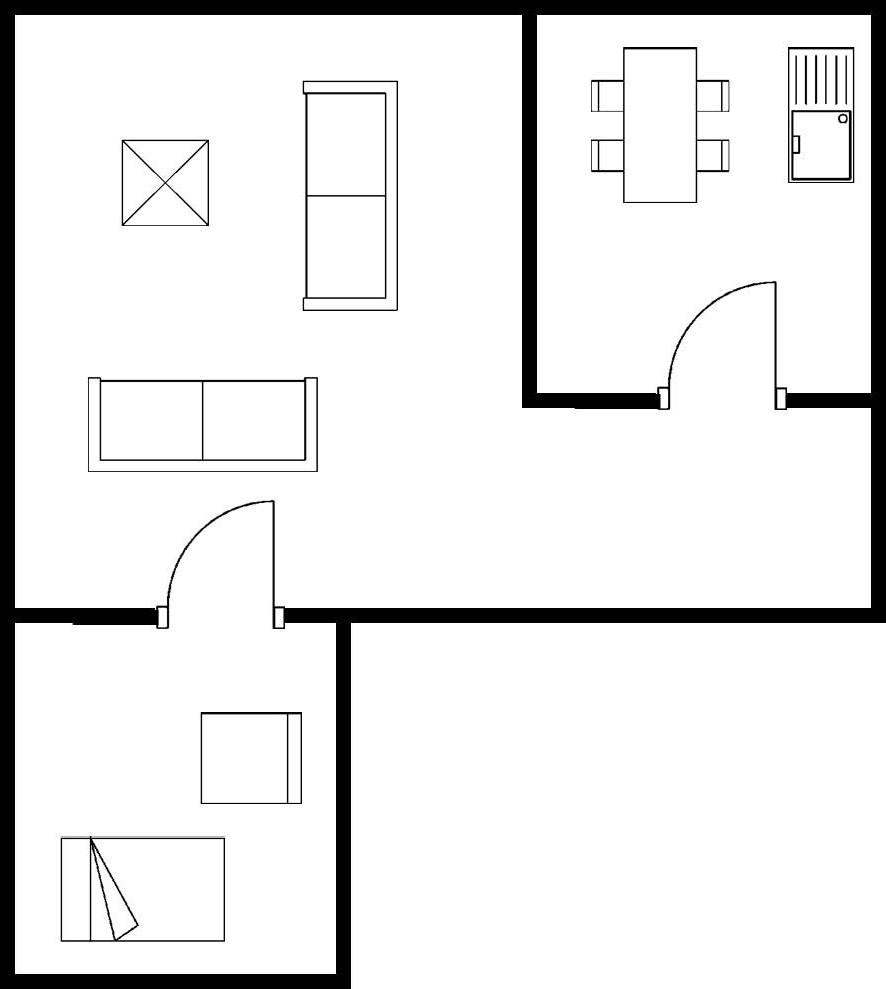bed: (53, 830, 230, 946)
dining_table: (582, 40, 735, 209)
sink: (778, 39, 859, 188)
sofa: (294, 73, 402, 316), (80, 370, 323, 478)
